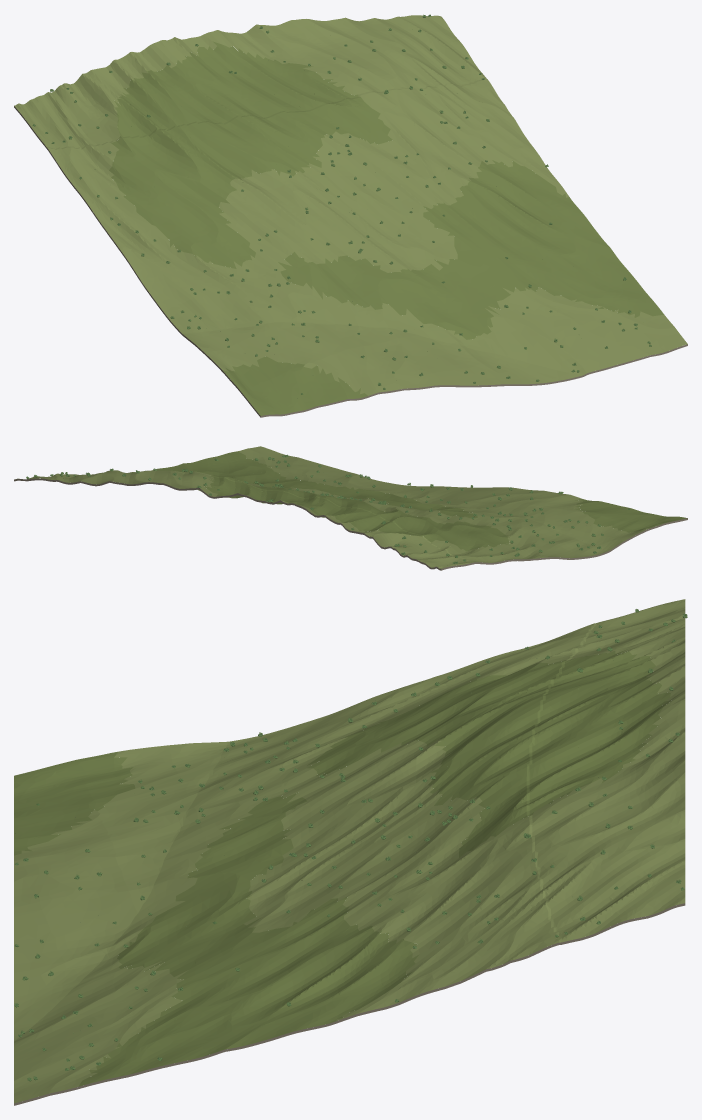
File: parca_+6_-8-yakin.glb
3 views of the same model, one above another, from view 1: azimuth 30°, elevation 25°; view 2: azimuth 150°, elevation 25°; view 3: azimuth 270°, elevation 25° (orthographic). The views are drawn at different scales.
Parts seen in each view (by area): view 1: parca_+6_-8_arazi, parca_+6_-8_bitkiler; view 2: parca_+6_-8_arazi, parca_+6_-8_bitkiler; view 3: parca_+6_-8_arazi, parca_+6_-8_bitkiler.
Boxes of the visible parts, left/top/right/bottom form: parca_+6_-8_arazi: left=14, top=15, right=687, bottom=417; parca_+6_-8_bitkiler: left=32, top=14, right=651, bottom=406; parca_+6_-8_arazi: left=14, top=446, right=687, bottom=570; parca_+6_-8_bitkiler: left=26, top=454, right=630, bottom=563; parca_+6_-8_arazi: left=14, top=599, right=685, bottom=1105; parca_+6_-8_bitkiler: left=14, top=609, right=687, bottom=1081.
Bounding box in the file's own units: 1003 × 446 × 1004.
